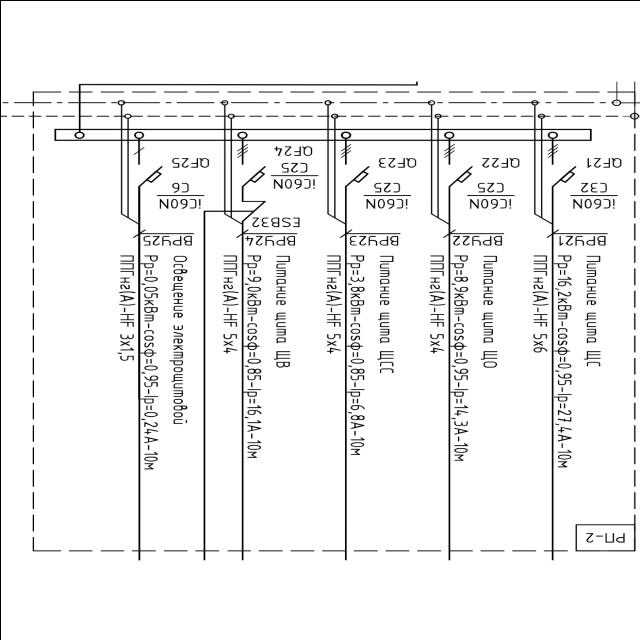-: (361, 181, 410, 210), (268, 162, 317, 191), (155, 181, 204, 210), (466, 180, 514, 209), (568, 180, 616, 208), (250, 214, 306, 228), (582, 530, 626, 544)
KM: (237, 198, 266, 222)
QF: (235, 141, 268, 187), (544, 142, 578, 186), (337, 143, 371, 187), (440, 142, 472, 186), (132, 144, 164, 186)
